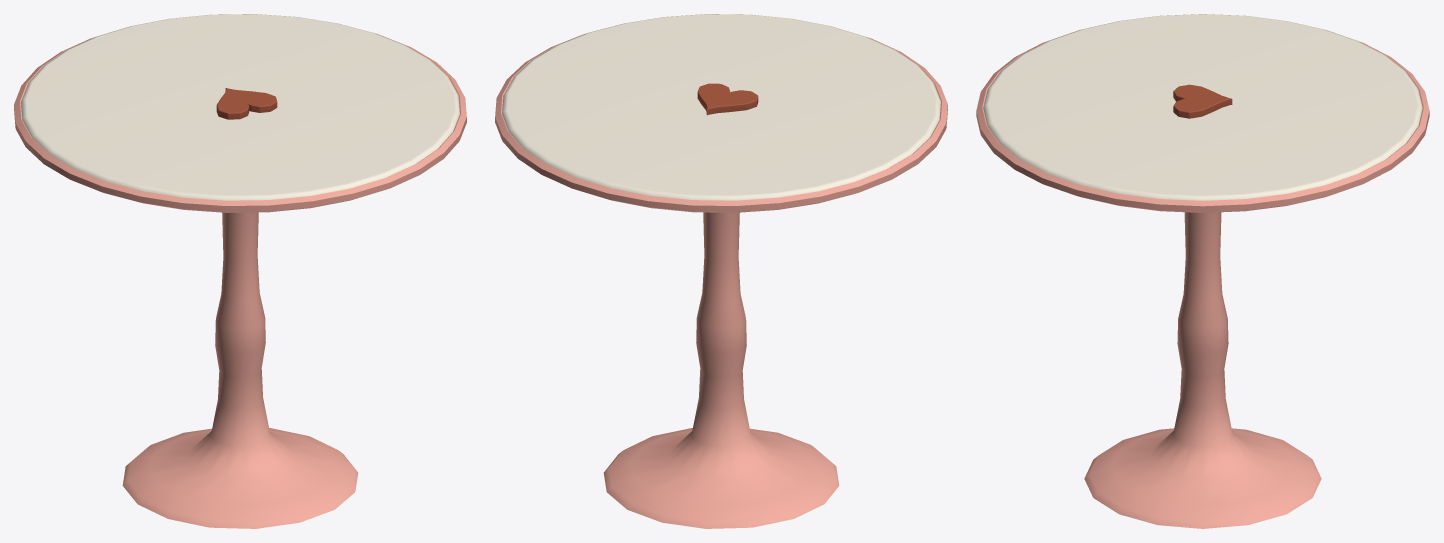
Rendered from bistro_table_round.glb.
The picture shows the model from 3 angles, left to right: view 1: azimuth 30°, elevation 25°; view 2: azimuth 150°, elevation 25°; view 3: azimuth 270°, elevation 25°; orthographic projection.
Parts seen in each view (by area): view 1: bistro_table_round; view 2: bistro_table_round; view 3: bistro_table_round.
Part boxes in pixels (x1,y1,x2,y2): bistro_table_round: (14,14,466,528); bistro_table_round: (495,14,947,528); bistro_table_round: (976,14,1429,528).
Bounding box in the file's own units: 0.8208 × 0.7655 × 0.8208.
